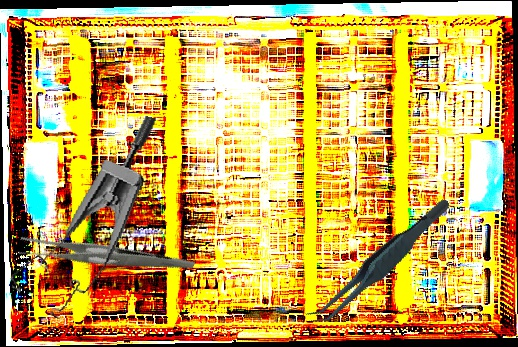Dressing Forceps: (14, 190, 196, 324)
Speculum: (3, 94, 160, 331)
Tissue Forceps: (288, 196, 471, 330)
